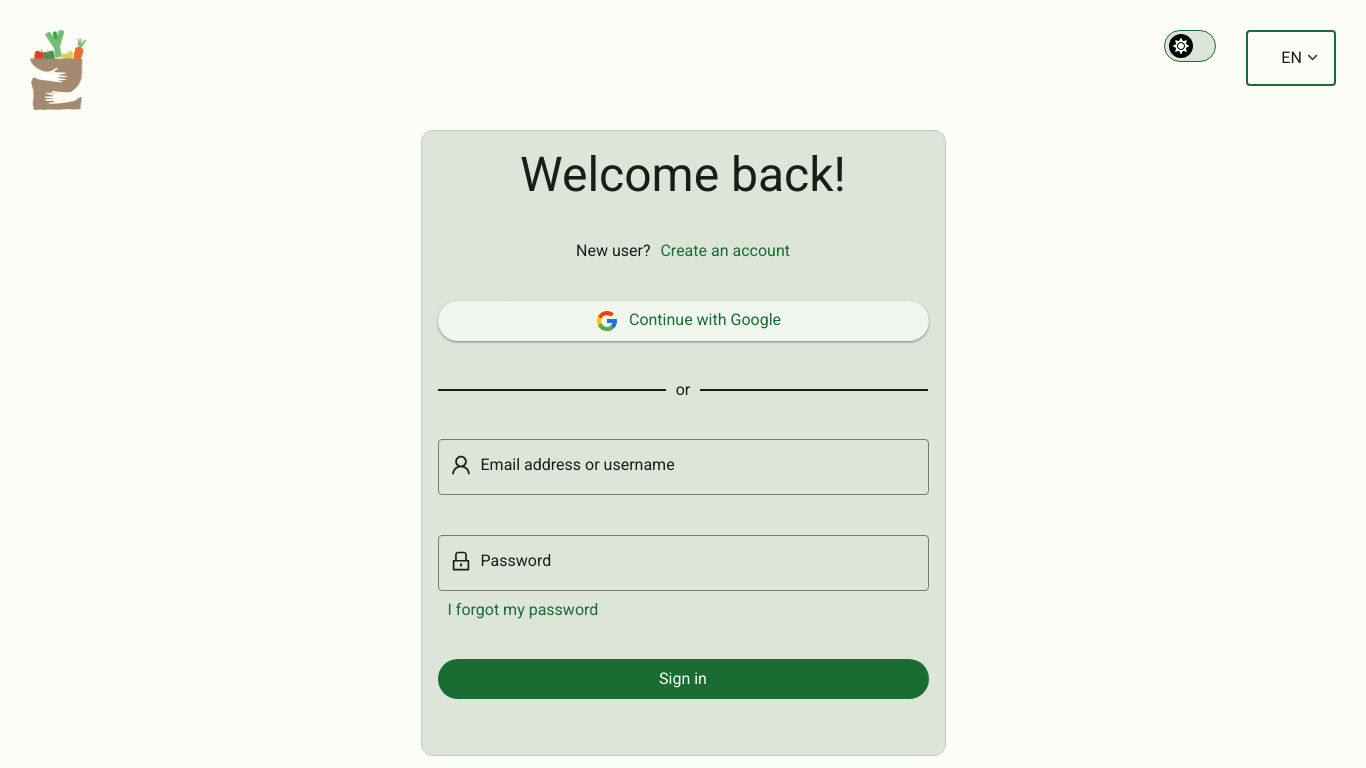
Test: navigates from signin to signup page
The width and height of the screenshot is (1366, 768).
Click the link "Create an account": click(725, 251) x1=660 y1=242 x2=790 y2=261
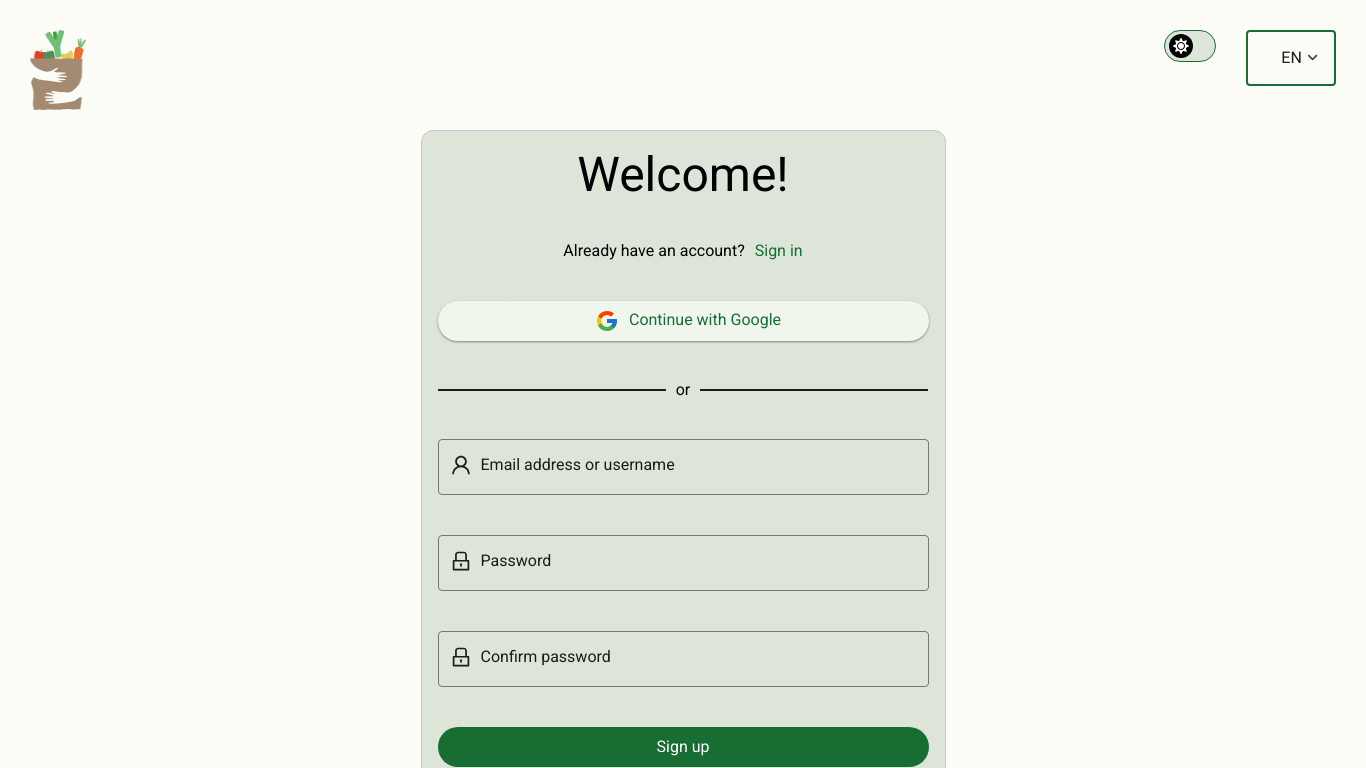
Now the text "Already have an account?" is shown, box x1=563 y1=242 x2=745 y2=261
